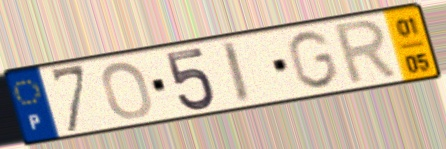5: (160, 45, 218, 113)
7: (49, 62, 92, 136)
G: (284, 28, 341, 91)
I: (218, 38, 255, 106)
O: (99, 60, 155, 121)
R: (332, 16, 404, 89)
